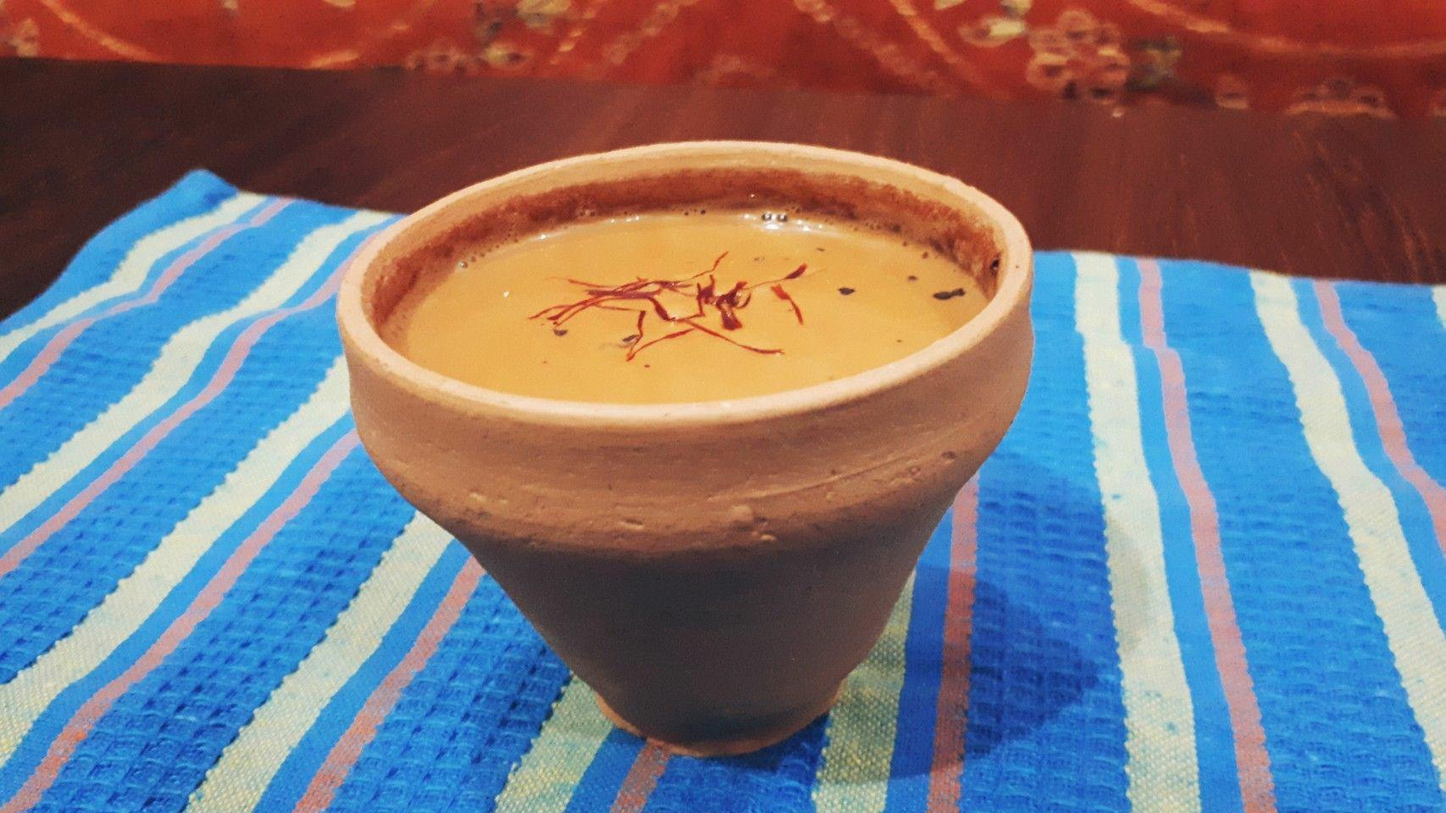Chai: (400, 212, 991, 397)
